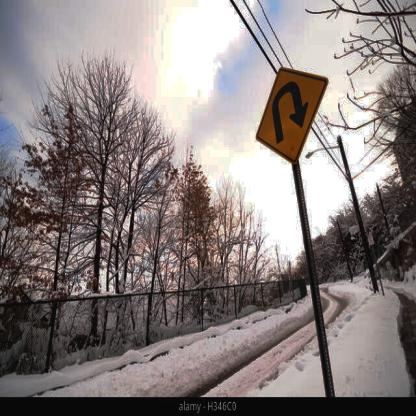U-turn: (250, 65, 329, 165)
